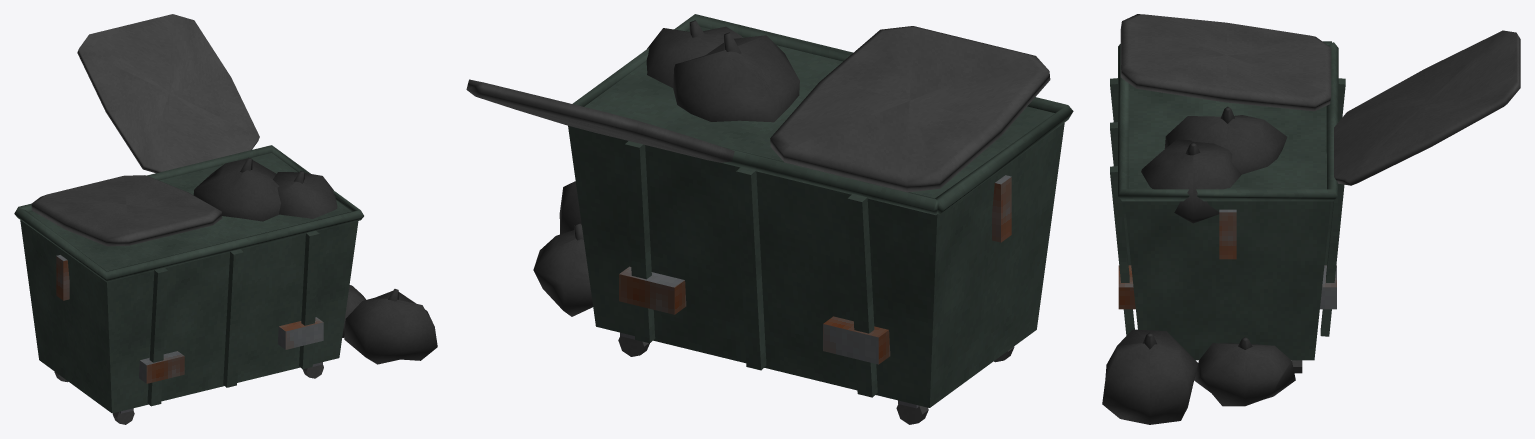
File: ext_dumpster.glb
3 views of the same model, side by side, from view 1: azimuth 30°, elevation 25°; view 2: azimuth 150°, elevation 25°; view 3: azimuth 270°, elevation 25° (orthographic). The views are drawn at different scales.
Visible parts, largest first — view 1: detail, body-col; view 2: body-col, detail; view 3: detail, body-col.
Part boxes in pixels (x1,y1,x2,y2): detail: (14, 14, 437, 424); body-col: (20, 153, 358, 413); body-col: (568, 26, 1064, 407); detail: (466, 14, 1073, 424); detail: (1102, 14, 1520, 424); body-col: (1124, 83, 1330, 360).
Size of what is drawn, in the model's own units: 2.68 by 1.89 by 2.41.
5 materials, 5 textured.
